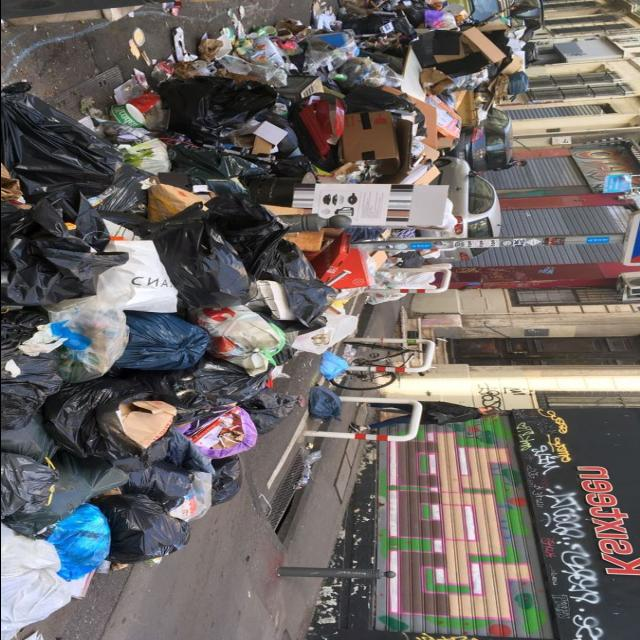garbage: (0, 0, 428, 565)
